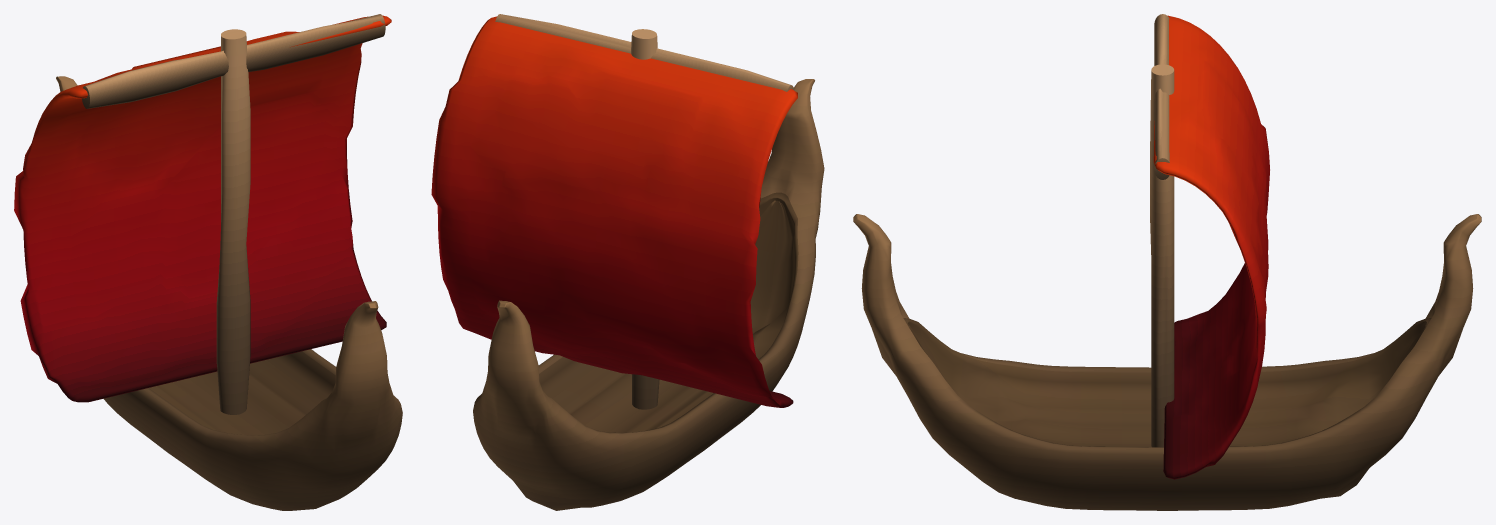
Rendered from barco Vikingo.fbx.
The picture shows the model from 3 angles, left to right: view 1: azimuth 30°, elevation 25°; view 2: azimuth 150°, elevation 25°; view 3: azimuth 270°, elevation 25°; orthographic projection.
Visible parts, largest first — view 1: pCylinder7, pCylinder3, pCylinder4, pCylinder8; view 2: pCylinder7, pCylinder3, pCylinder8, pCylinder4; view 3: pCylinder3, pCylinder7, pCylinder4, pCylinder8.
Part boxes in pixels (<box>): pCylinder7: <box>14,15,391,402</box>; pCylinder3: <box>56,76,402,510</box>; pCylinder4: <box>216,29,250,414</box>; pCylinder8: <box>82,14,385,108</box>; pCylinder7: <box>431,16,797,407</box>; pCylinder3: <box>473,79,824,510</box>; pCylinder8: <box>495,14,794,91</box>; pCylinder4: <box>631,29,659,409</box>; pCylinder3: <box>853,214,1481,510</box>; pCylinder7: <box>1153,15,1269,479</box>; pCylinder4: <box>1150,64,1174,447</box>; pCylinder8: <box>1154,14,1169,179</box>.
Bounding box in the file's own units: 12.65 × 15.63 × 20.62.
